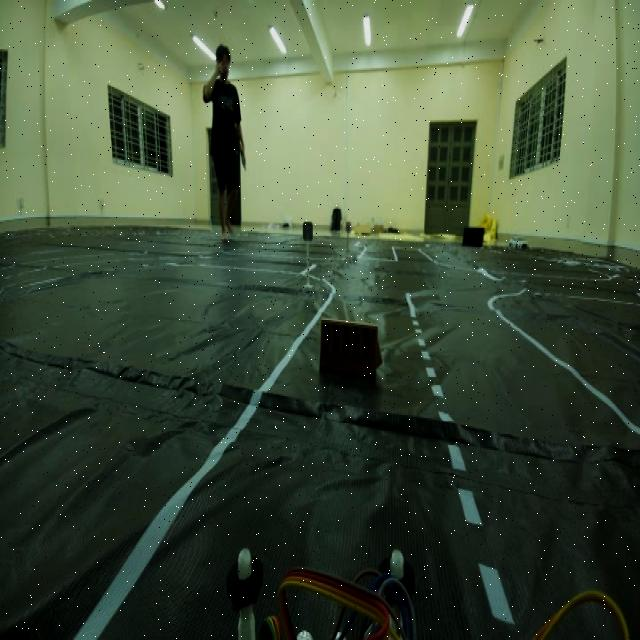roadblock: (318, 303, 386, 389)
